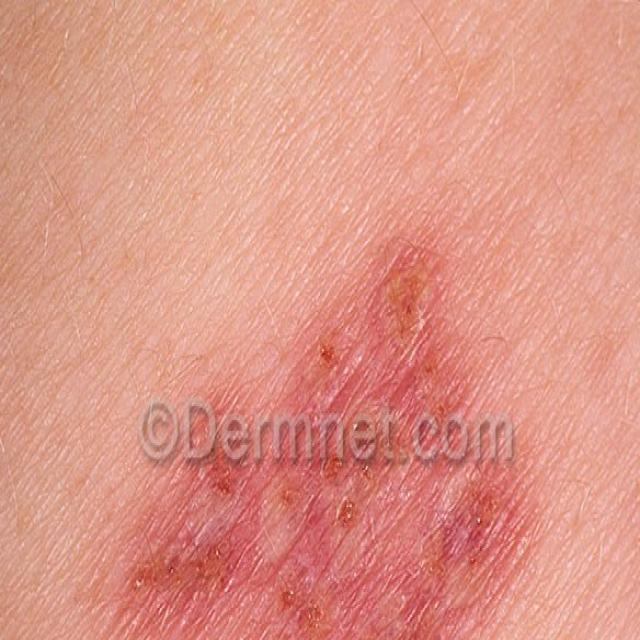Viral Infections: (149, 218, 527, 640)
